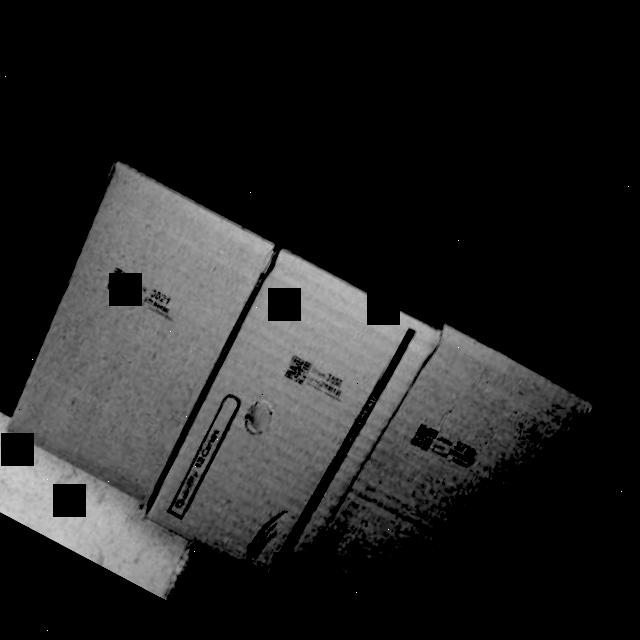box: (0, 161, 290, 516), (143, 248, 434, 598), (308, 328, 587, 640)
